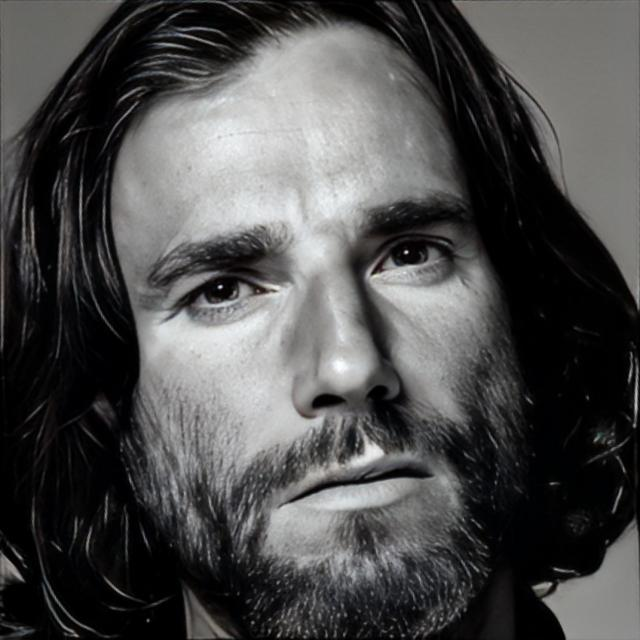neutral: (107, 13, 511, 640)
